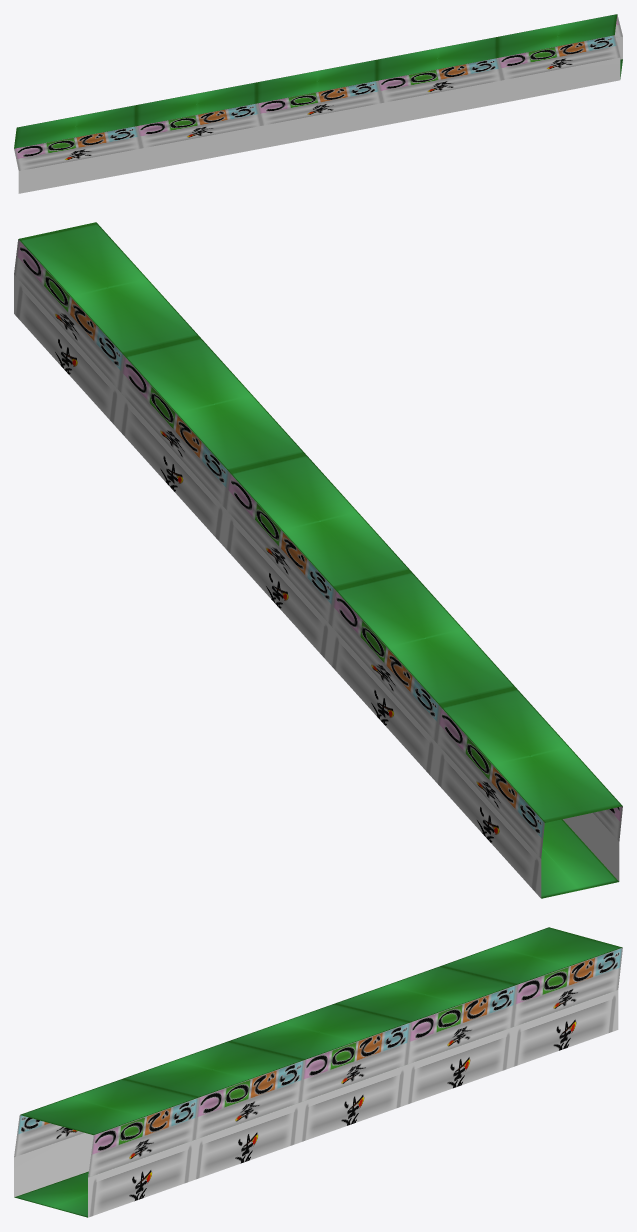
File: CourseSummer_Wall_L_7.fbx
3 renders of one model, top to bottom at view 1: azimuth 30°, elevation 25°; view 2: azimuth 150°, elevation 25°; view 3: azimuth 270°, elevation 25°, orthographic. The views are drawn at different scales.
Visible parts, largest first — view 1: polySurface64; view 2: polySurface64; view 3: polySurface64.
Part boxes in pixels (x1,y1,x2,y2): polySurface64: (14, 14, 622, 193); polySurface64: (14, 222, 622, 898); polySurface64: (14, 927, 622, 1217).
Size of the model in its own units: 22.03 by 6.97 by 13.78.
Materials: 1 (1 with a texture image).
